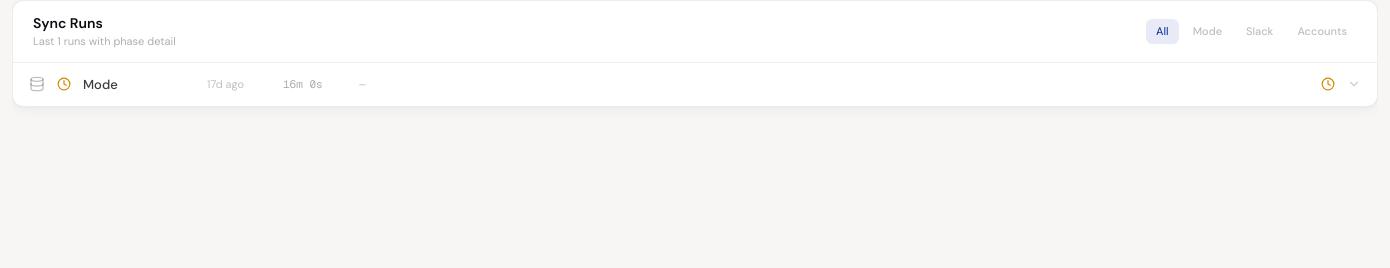
Test: SyncRunLog › shows stale state for stale-timeout runs
This screenshot has width=1390, height=268.
Step 1. Click the button "Mode 17d ago 16m 0s —" → [100, 84], box 13,62 -> 1377,106
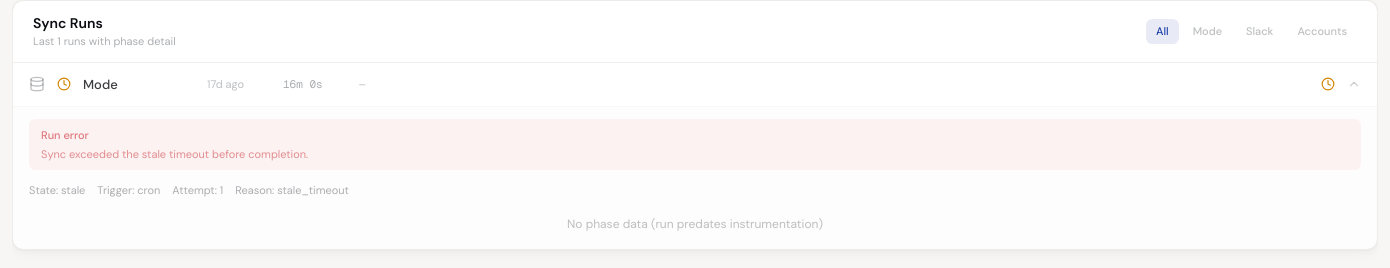
Check: the text "State: stale" is shown, box 29,182 -> 85,198
Check: the text "Reason: stale_timeout" is shown, box 235,182 -> 349,198
